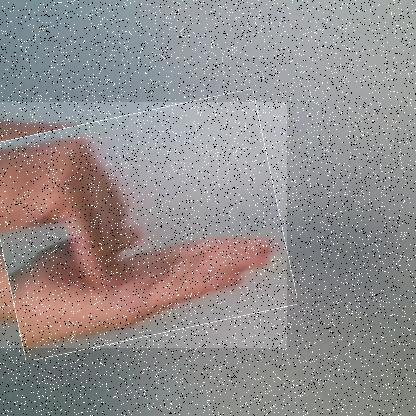Z: (0, 102, 288, 349)
